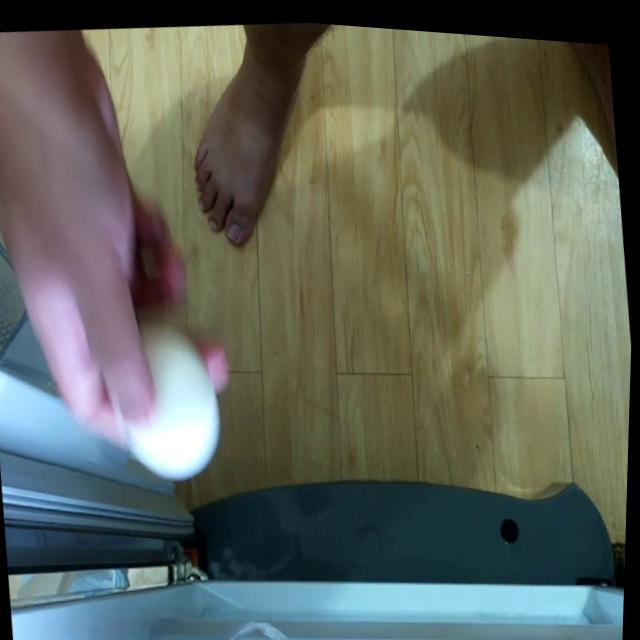egg: (108, 306, 233, 484)
